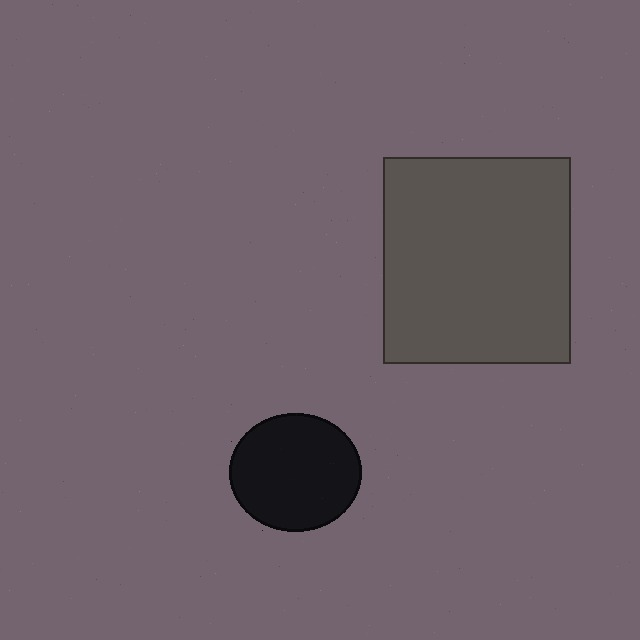concrete_damage: (383, 157, 570, 363)
pothole: (229, 413, 361, 531)
